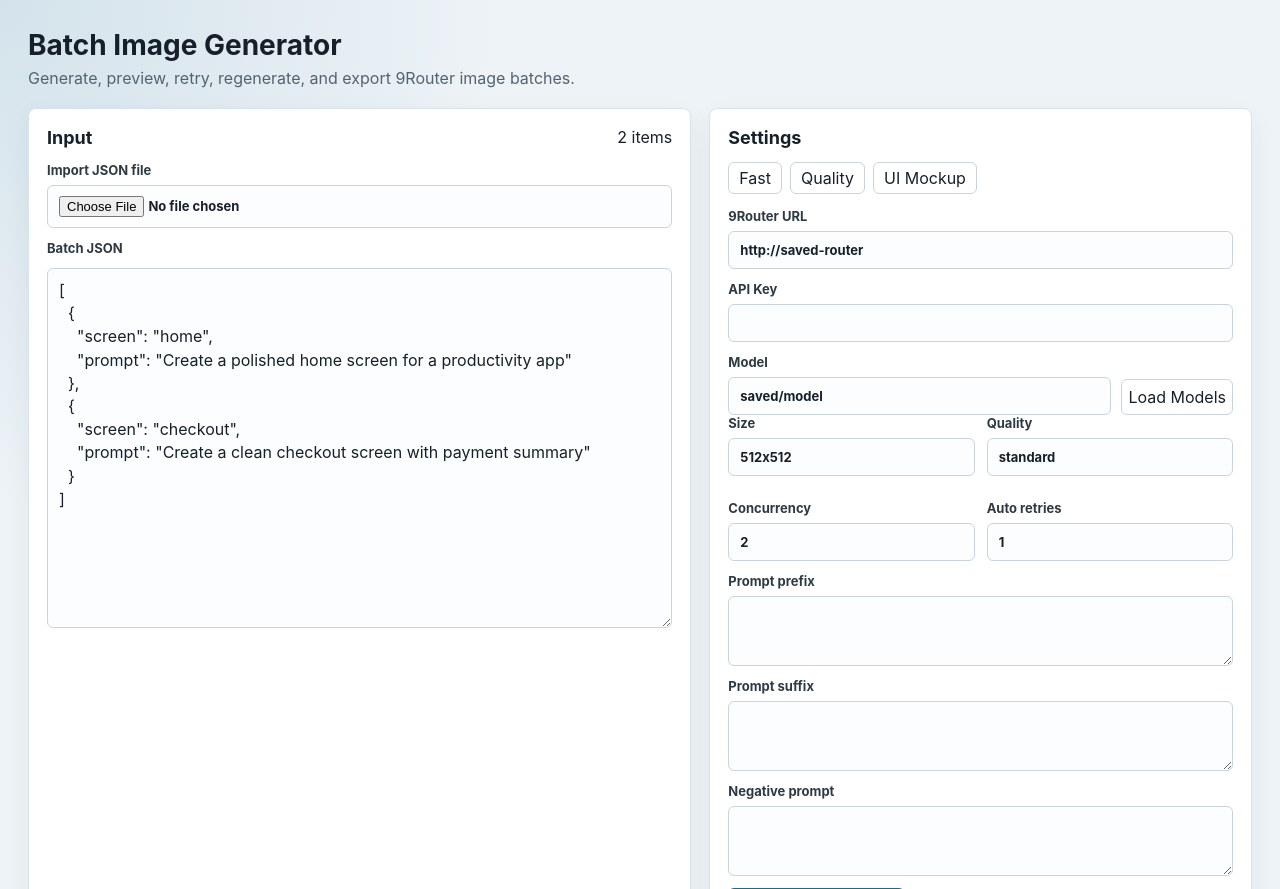
it: App › restores saved settings and applies presets
The image size is (1280, 889).
Expected: the field labelled "Model" holds "saved/model", [728, 377, 1111, 415]
Click the button "Quality".
click(828, 178)  # box [790, 162, 865, 194]
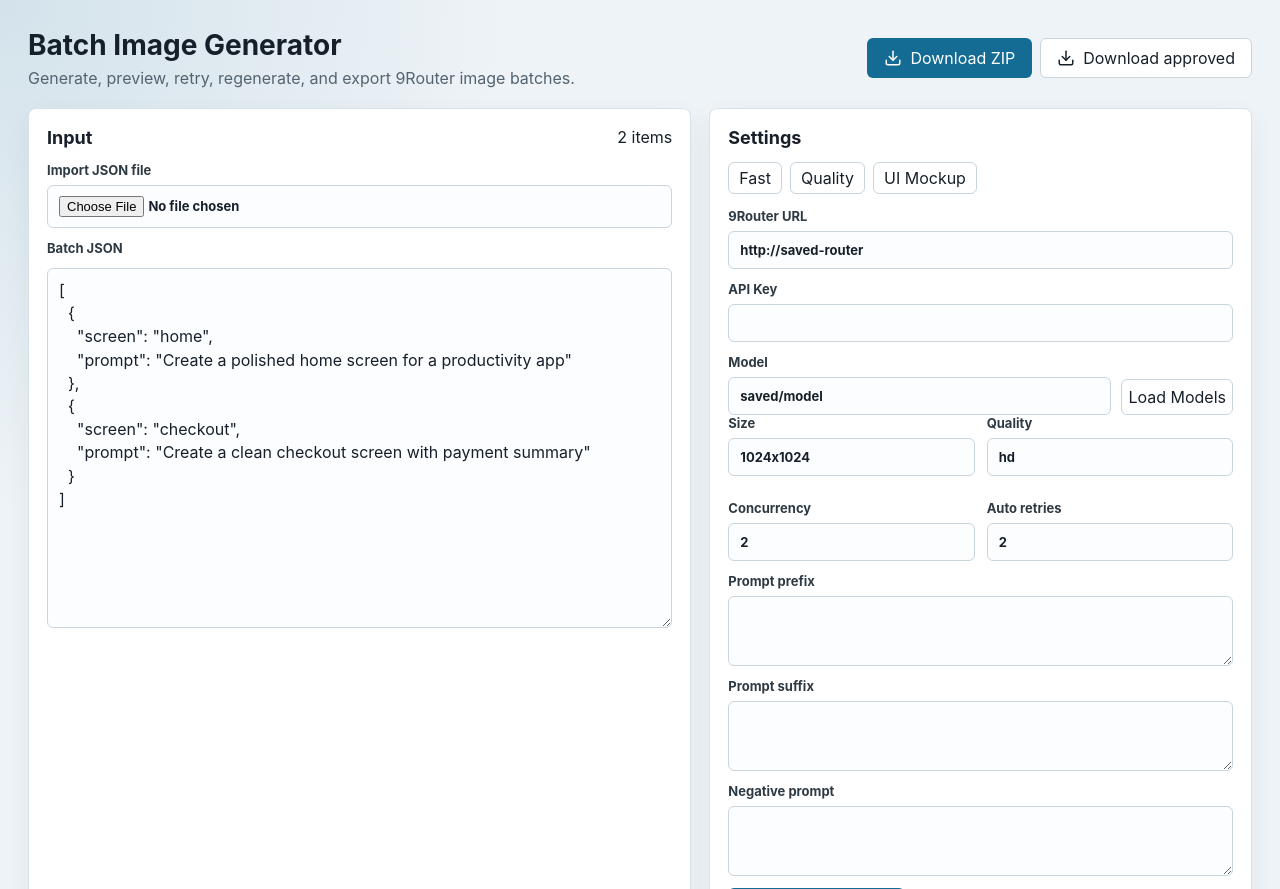
Expected: the field labelled "Quality" holds "hd", [987, 438, 1233, 476]
Expected: the number field labelled "Auto retries" holds "2", [987, 523, 1233, 561]
